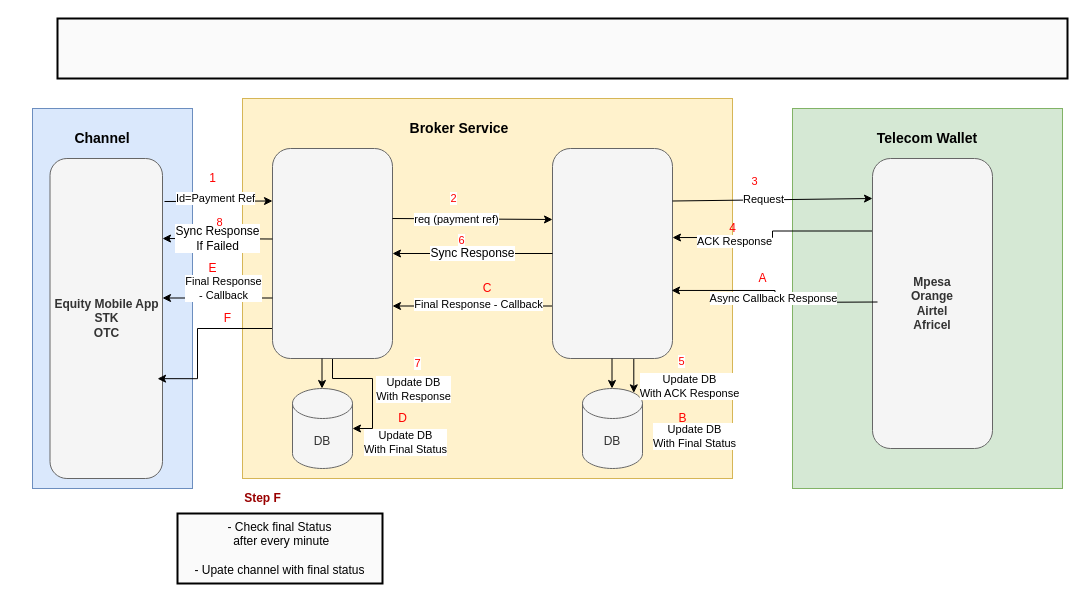
Image size: 1085x601. Some labels were removed from this diagram. The centre of each missing label's shape, as x and y in pixels:
"Business service" goes at pixel 332 253.
"PCES BROKER SERVICE" goes at pixel 562 48.
"Technical Service" goes at pixel 612 253.
